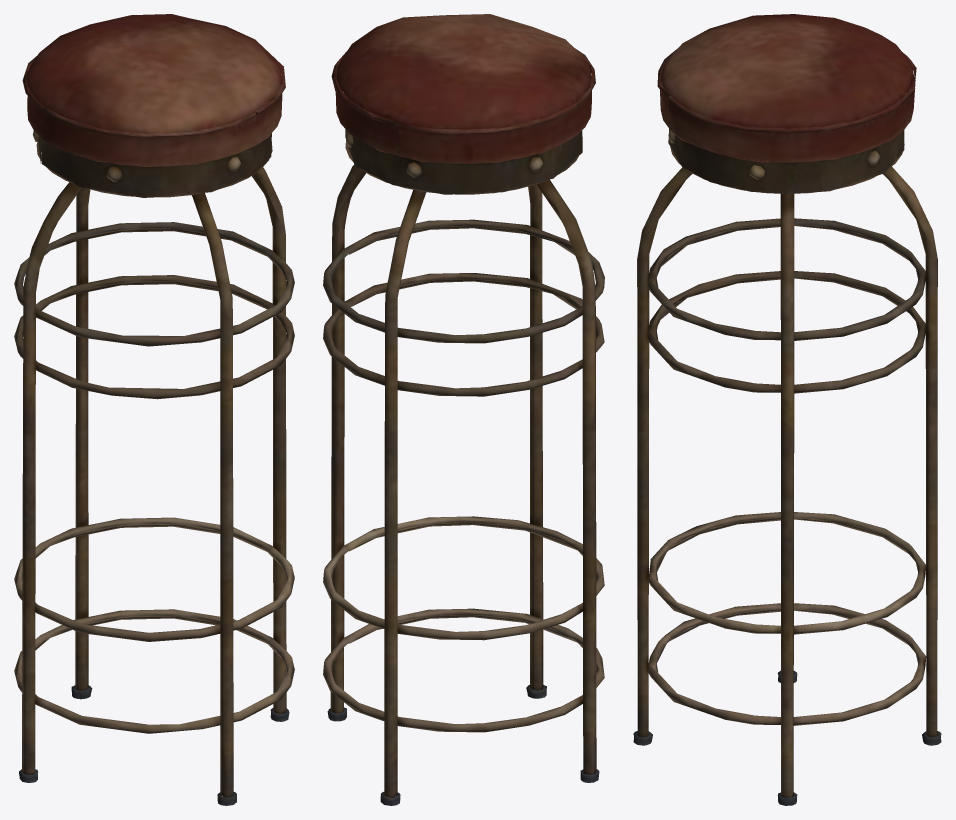
File: stool.glb
3 views of the same model, side by side, from view 1: azimuth 30°, elevation 25°; view 2: azimuth 150°, elevation 25°; view 3: azimuth 270°, elevation 25° (orthographic).
Visible parts, largest first — view 1: metal_stool_01; view 2: metal_stool_01; view 3: metal_stool_01.
Boxes of the visible parts, x1,y1,x2,y2 form: metal_stool_01: (14, 14, 294, 805); metal_stool_01: (323, 14, 604, 805); metal_stool_01: (633, 14, 941, 805).
Size of the model in its own units: 0.352 by 0.8824 by 0.3545.
1 material, 1 textured.
